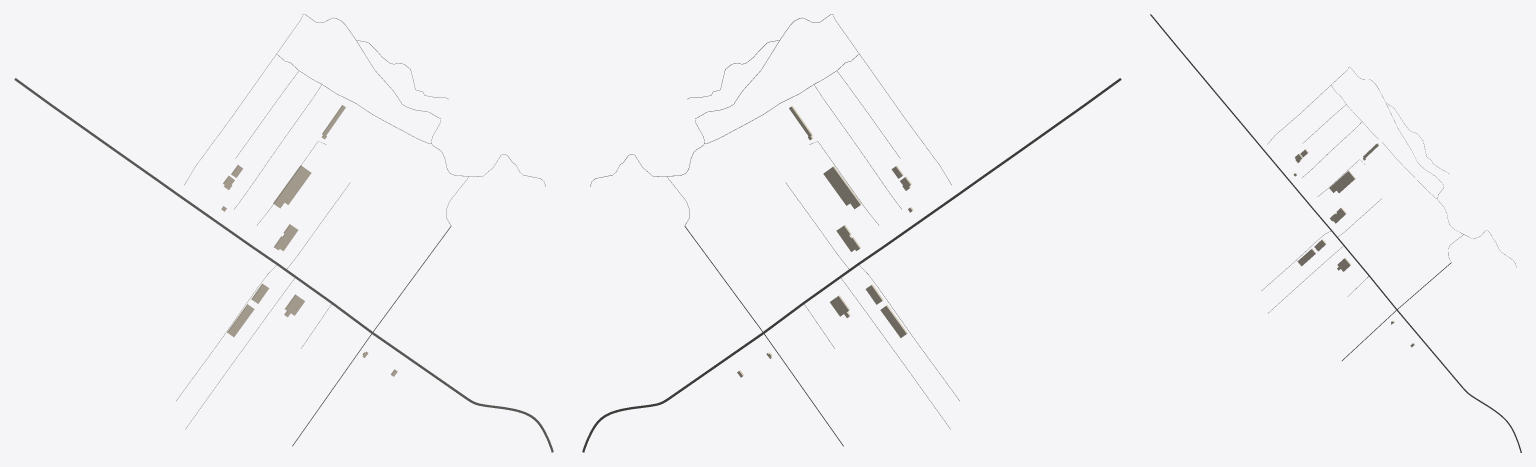
The model's file is historic-palestine-05_22_3473_3169.glb.
3 views of the same model, side by side, from view 1: azimuth 30°, elevation 25°; view 2: azimuth 150°, elevation 25°; view 3: azimuth 330°, elevation 25° (orthographic). The views are drawn at different scales.
Parts seen in each view (by area): view 1: Road 3613, Building_.004, Road .001; view 2: Road 3613, Building_.004, Road .001; view 3: Road 3613.
Boxes of the visible parts, <box> form: Road 3613: <box>14,78,553,452</box>; Building_.004: <box>273,165,311,208</box>; Road .001: <box>184,14,545,186</box>; Road 3613: <box>582,78,1121,452</box>; Building_.004: <box>823,166,861,209</box>; Road .001: <box>590,14,951,186</box>; Road 3613: <box>1150,14,1521,452</box>.
Bounding box in the file's own units: 2064 × 1849 × 8.7.
